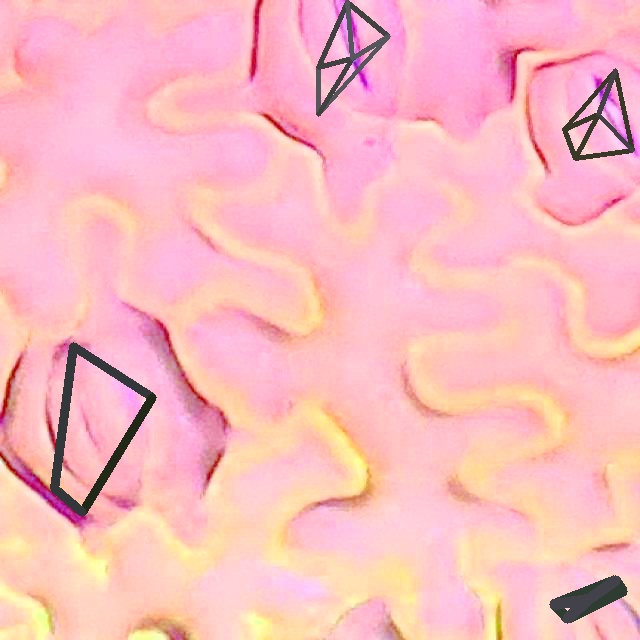close: (50, 342, 155, 516), (549, 575, 626, 623)
open: (316, 1, 389, 115), (562, 69, 633, 160)
